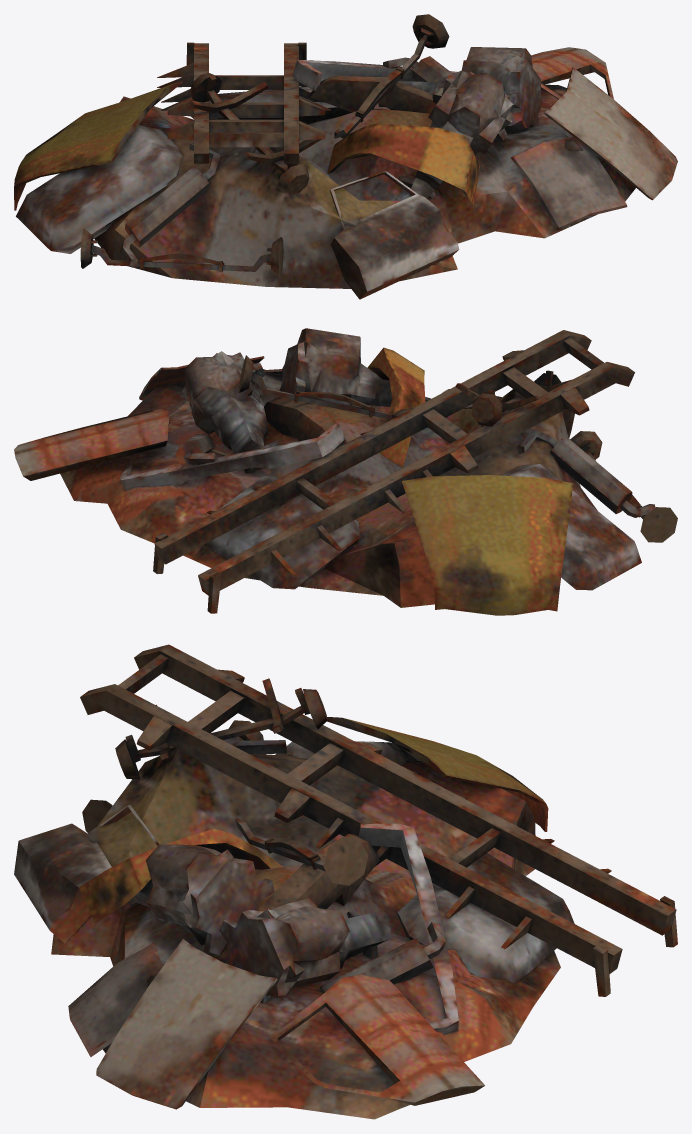
The model's file is construction.001_construction_assets_0_lev3.glb.
The picture shows the model from 3 angles, top to bottom: view 1: azimuth 30°, elevation 25°; view 2: azimuth 150°, elevation 25°; view 3: azimuth 270°, elevation 25°; orthographic projection. The views are drawn at different scales.
Parts seen in each view (by area): view 1: construction.001_construction_assets_0_lev3; view 2: construction.001_construction_assets_0_lev3; view 3: construction.001_construction_assets_0_lev3.
Part boxes in pixels (<box>): construction.001_construction_assets_0_lev3: <box>14,14,677,299</box>; construction.001_construction_assets_0_lev3: <box>14,328,677,615</box>; construction.001_construction_assets_0_lev3: <box>14,644,677,1119</box>.
Size of the model in its own units: 9.89 by 2.45 by 7.85.
Materials: 1 (1 with a texture image).
